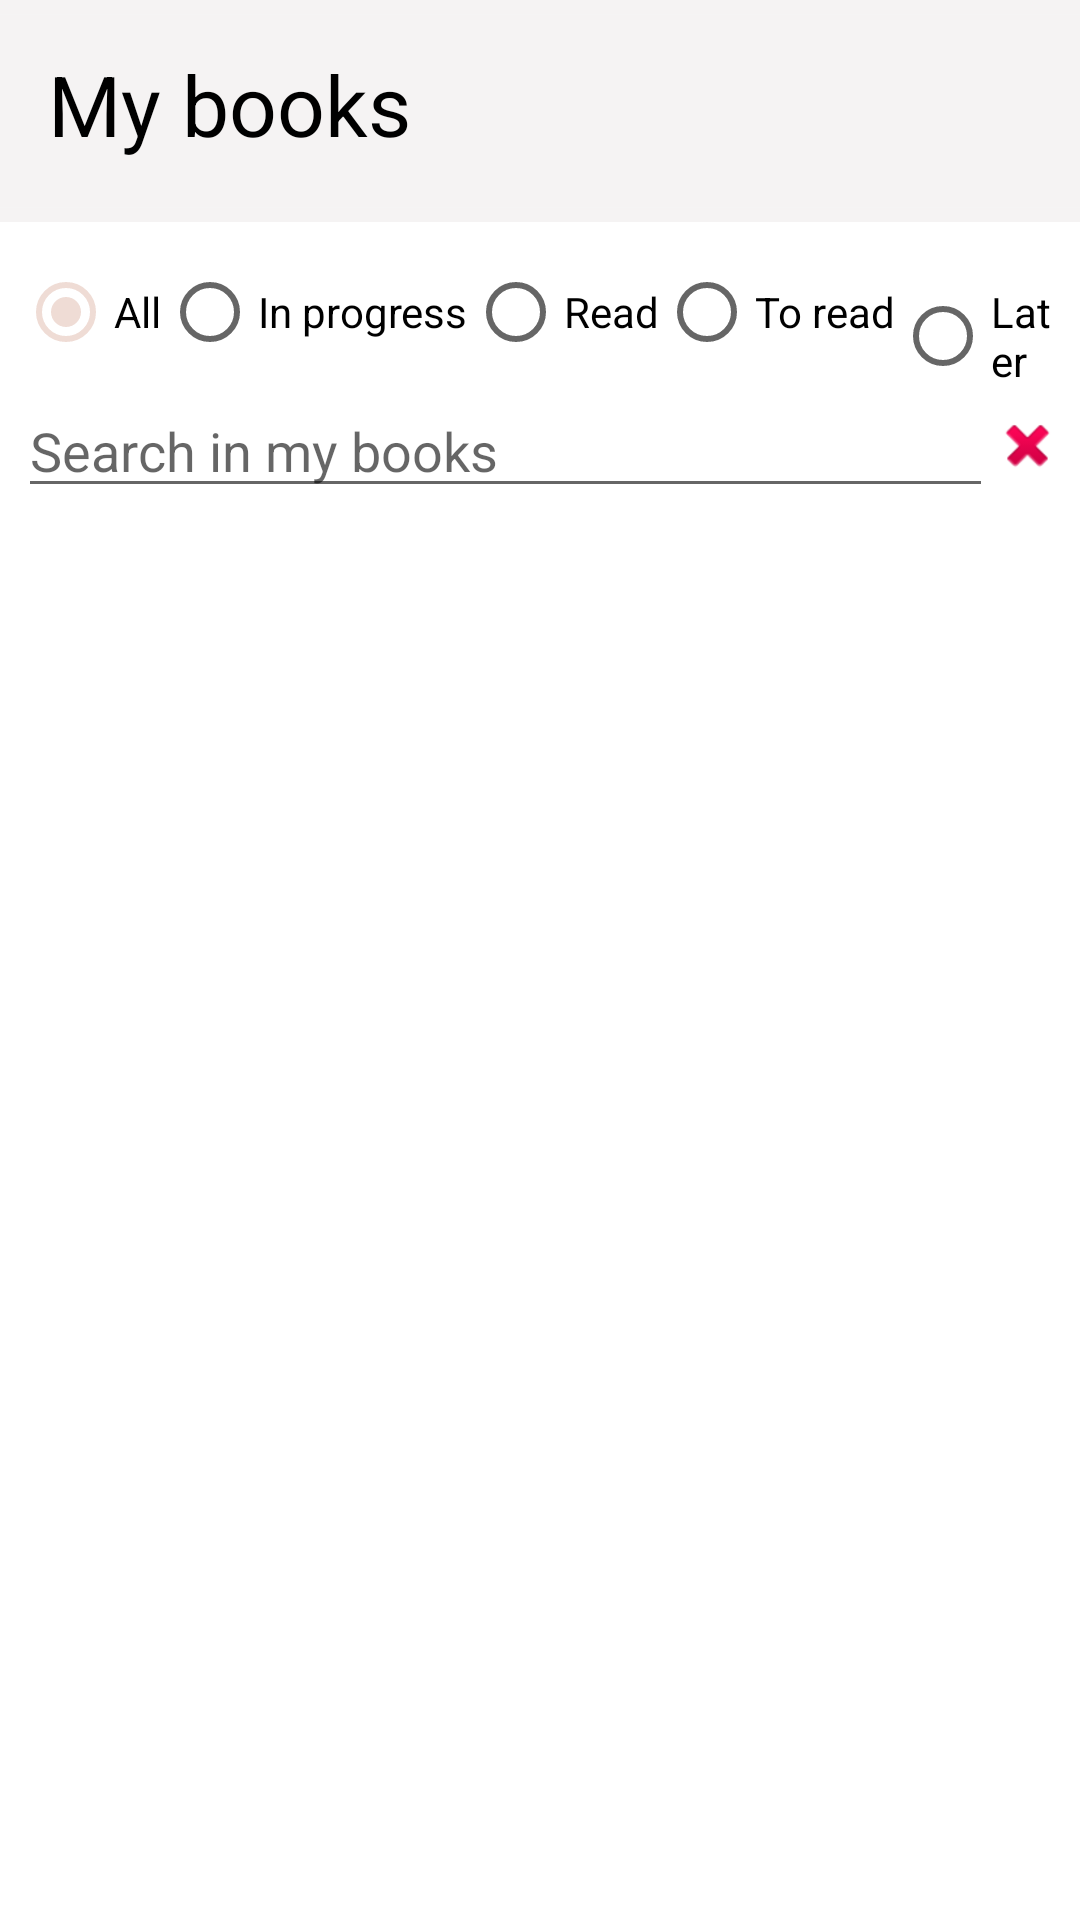

Screen size 1080px×1920px. Icon name, then its center in pixels as [x,y]:
delete: [1027,446]
